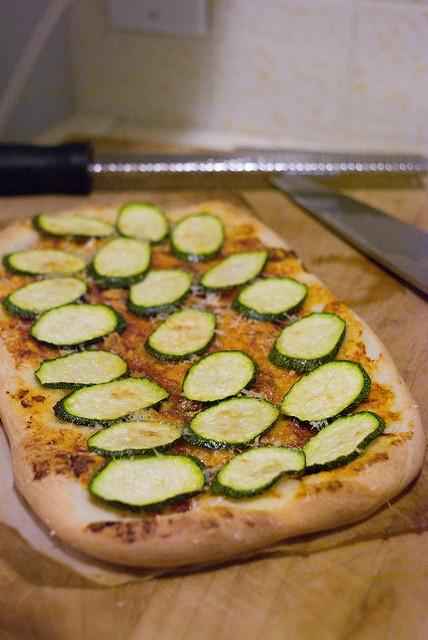vegetable marrow: (88, 454, 211, 514), (280, 360, 371, 430), (53, 376, 170, 428), (182, 396, 280, 451), (210, 446, 308, 500), (302, 411, 387, 473), (268, 313, 347, 372), (31, 302, 126, 350), (182, 351, 259, 406), (144, 307, 218, 363), (2, 274, 90, 320), (34, 350, 130, 390), (86, 419, 184, 458), (230, 276, 308, 324), (89, 236, 153, 289), (127, 268, 192, 314), (199, 250, 270, 292), (170, 212, 226, 264), (115, 201, 170, 245), (4, 248, 86, 276), (32, 212, 117, 238)
